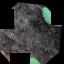Purslane: (0, 2, 64, 64)
